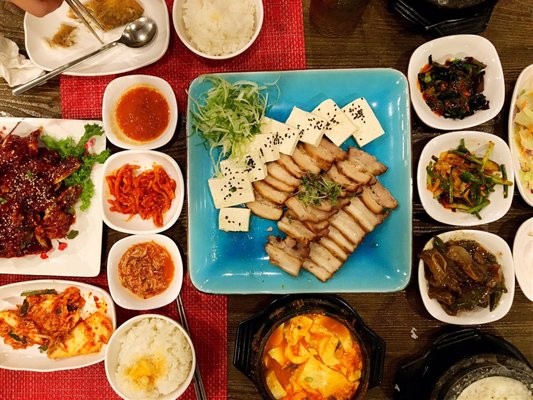sushi: (186, 68, 415, 297), (233, 294, 388, 400), (407, 34, 506, 131), (417, 229, 516, 326), (415, 132, 514, 225), (105, 314, 197, 400), (101, 150, 185, 234), (105, 233, 184, 311), (101, 75, 179, 151), (171, 0, 265, 61), (392, 0, 500, 36), (508, 62, 533, 212), (513, 215, 533, 303)
